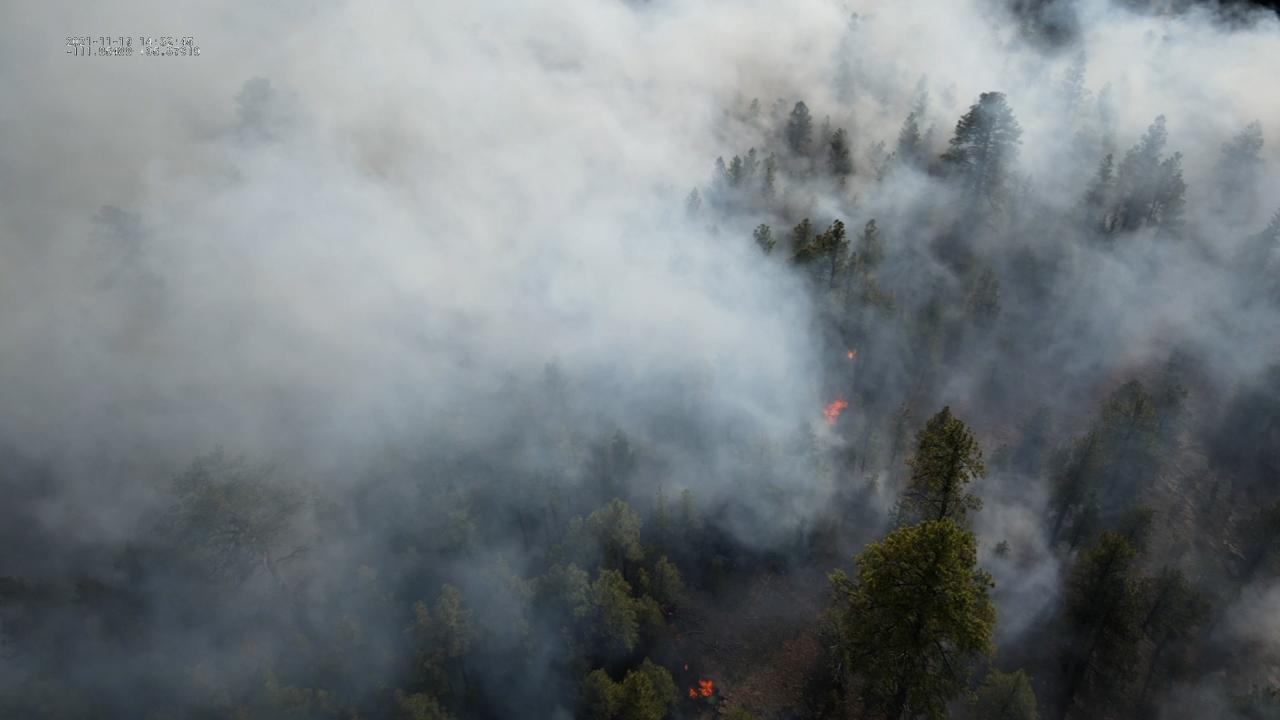fire: (820, 396, 849, 427), (687, 679, 713, 700), (845, 350, 856, 361), (683, 663, 690, 673)
smoke: (0, 0, 1280, 720)
